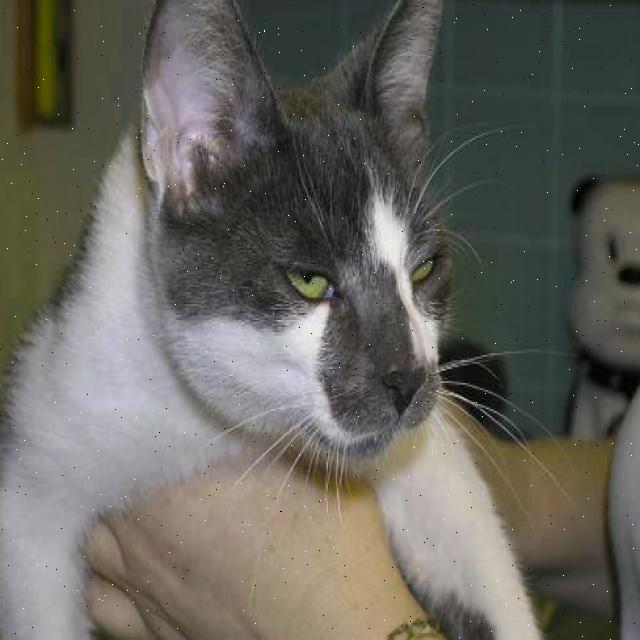Cat: (136, 0, 484, 495)
